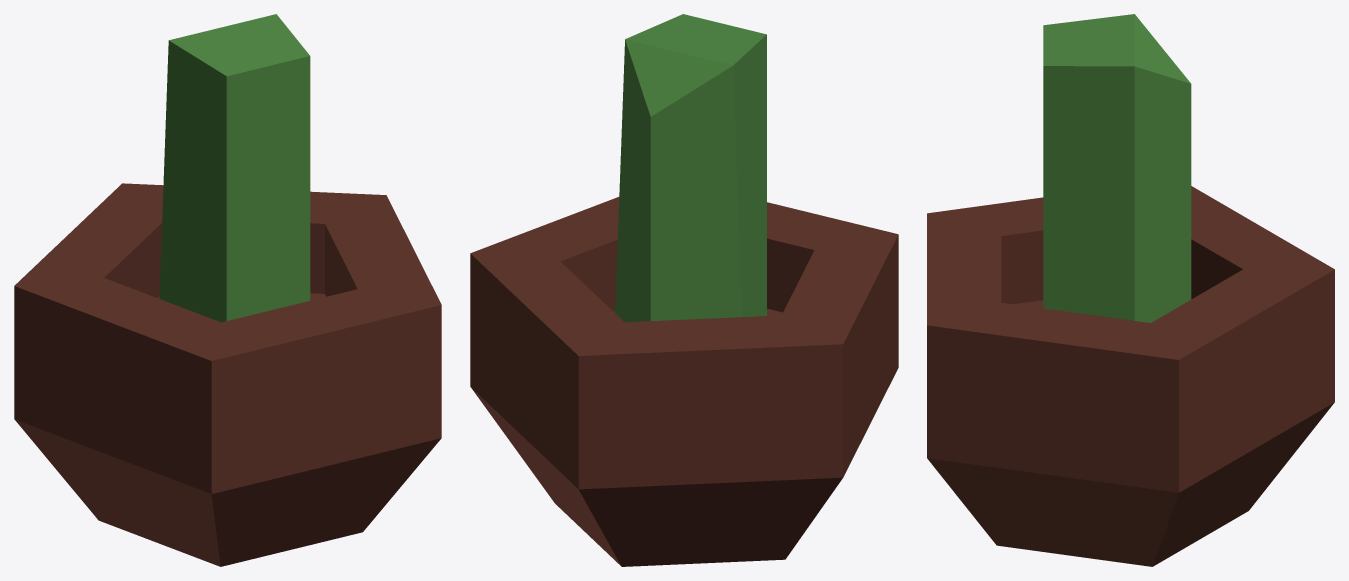
File: kaktus.fbx
3 renders of one model, left to right at view 1: azimuth 30°, elevation 25°; view 2: azimuth 150°, elevation 25°; view 3: azimuth 270°, elevation 25°, orthographic.
Parts seen in each view (by area): view 1: Cylinder.003; view 2: Cylinder.003; view 3: Cylinder.003.
Part boxes in pixels (x1,y1,x2,y2): Cylinder.003: (14,14,441,566); Cylinder.003: (470,14,898,566); Cylinder.003: (927,14,1334,566).
Size of the model in its own units: 67.43 by 81.66 by 64.13.
